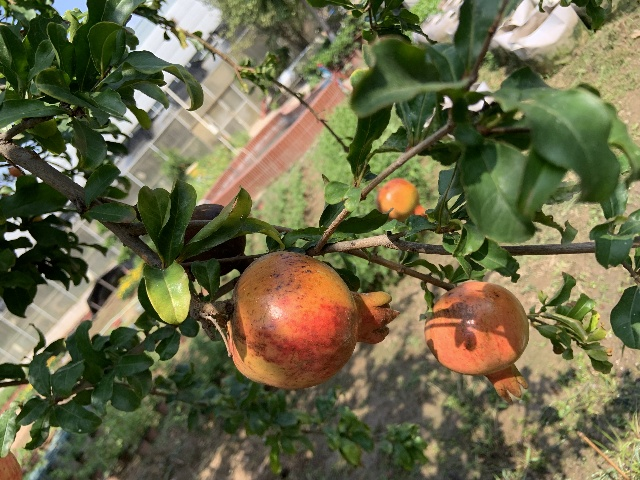ripe: (227, 252, 400, 390), (424, 280, 529, 403), (376, 178, 426, 220)
